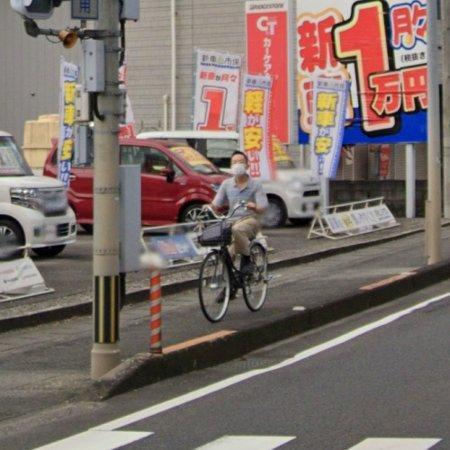bicycles: (199, 243, 269, 323)
